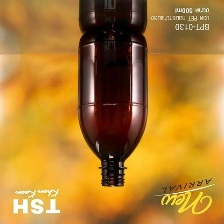insecticide: (74, 23, 152, 190)
